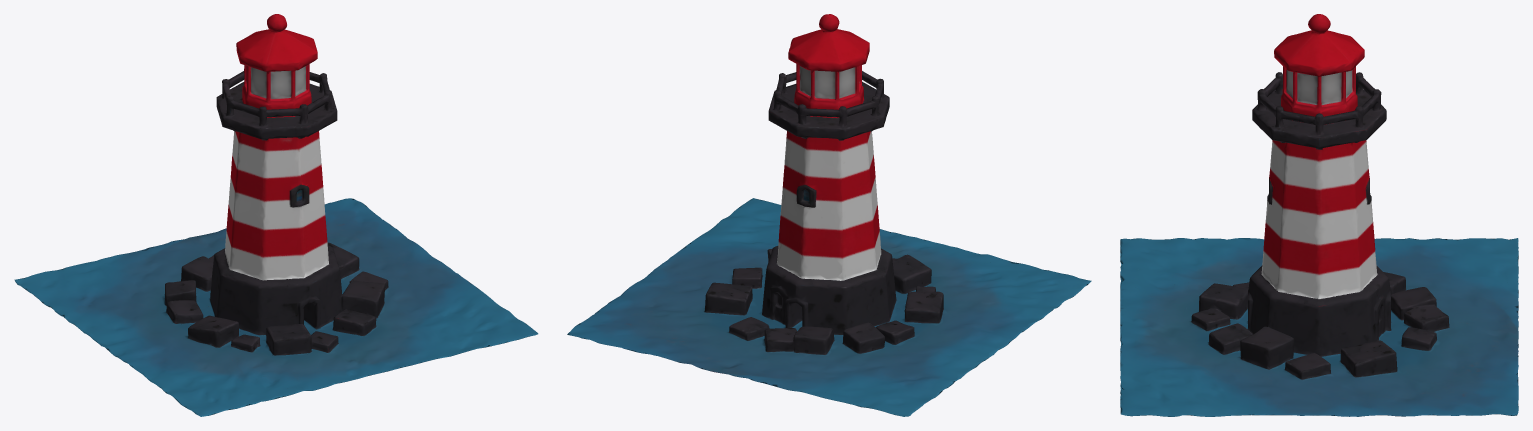
The model's file is lighthouse_t1.glb.
3 views of the same model, side by side, from view 1: azimuth 30°, elevation 25°; view 2: azimuth 150°, elevation 25°; view 3: azimuth 270°, elevation 25° (orthographic). The views are drawn at different scales.
Parts seen in each view (by area): view 1: geometry_0; view 2: geometry_0; view 3: geometry_0.
Part boxes in pixels (x1,y1,x2,y2): geometry_0: (14, 14, 538, 416); geometry_0: (567, 14, 1091, 416); geometry_0: (1120, 14, 1518, 416).
Bounding box in the file's own units: 1 × 0.8293 × 0.9512.
1 material, 1 textured.
